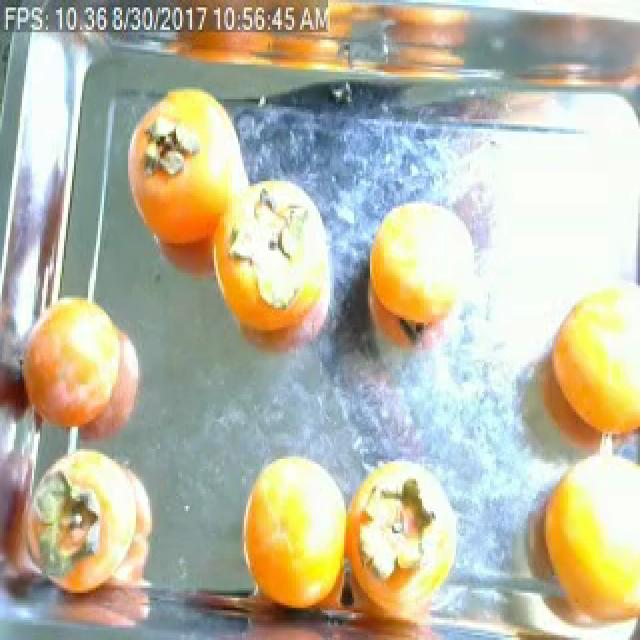Fruit: (114, 69, 262, 278), (226, 434, 366, 633), (8, 280, 160, 462)
